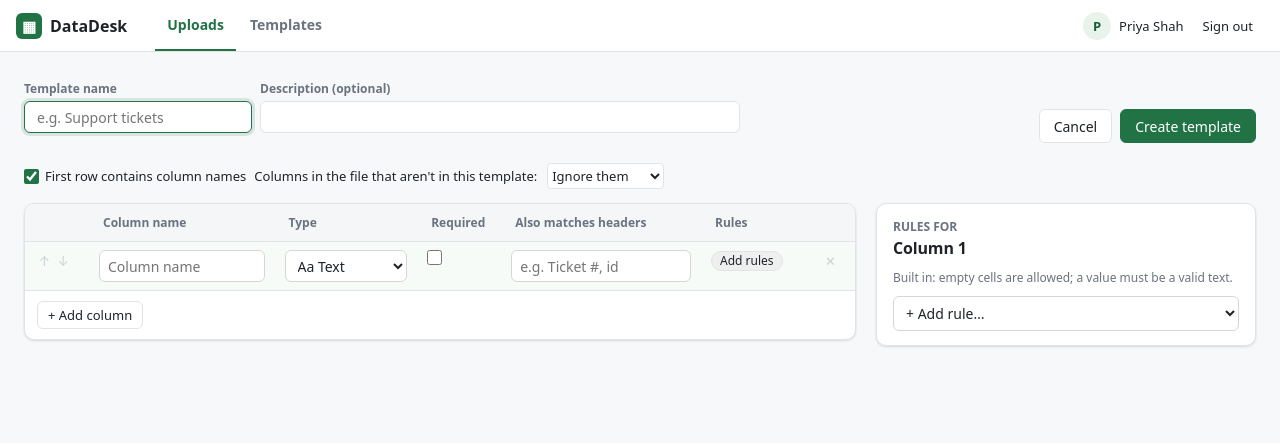
Test: TemplateEditorPage: new template › server-side problems (duplicate name) are shown at the field and cleared on the next edit
The width and height of the screenshot is (1280, 443).
Type "Support tickets" into the field labelled "Template name" at x=138, y=117, box [24,101,252,133]
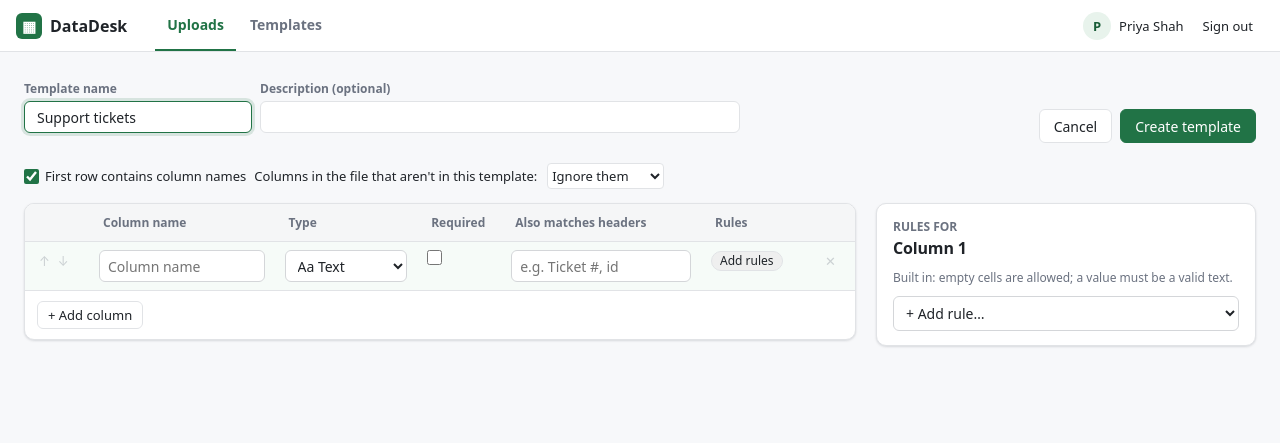
Type "A" into the field named "Column 1 name" at x=182, y=266, box [99,250,264,282]
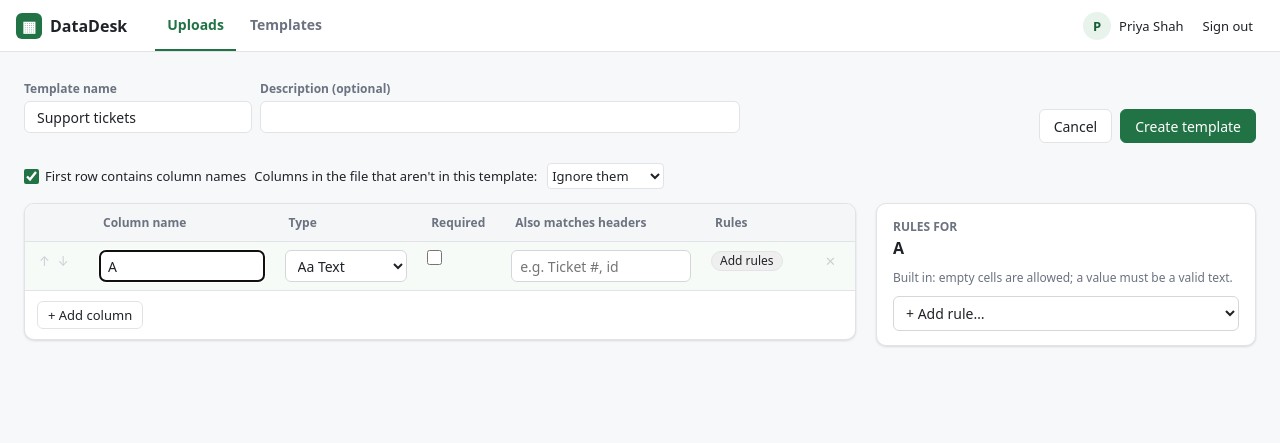
Click the button "Create template" at x=1188, y=126, box [1120,109,1256,143]
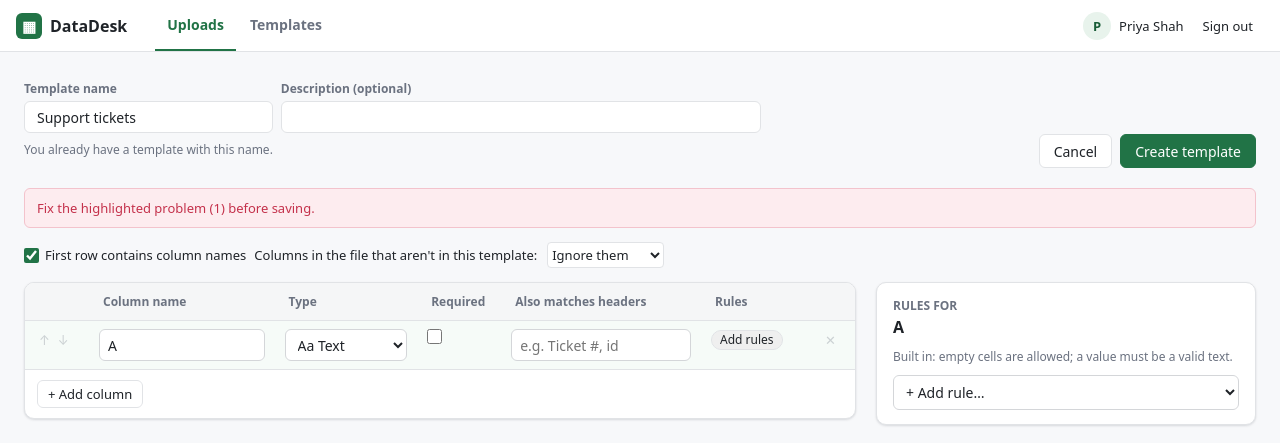
Expected: the text "You already have a template with this name." is shown, [24,141,273,158]
Type " 2" into the field labelled "Template name" at x=148, y=117, box [24,101,273,133]
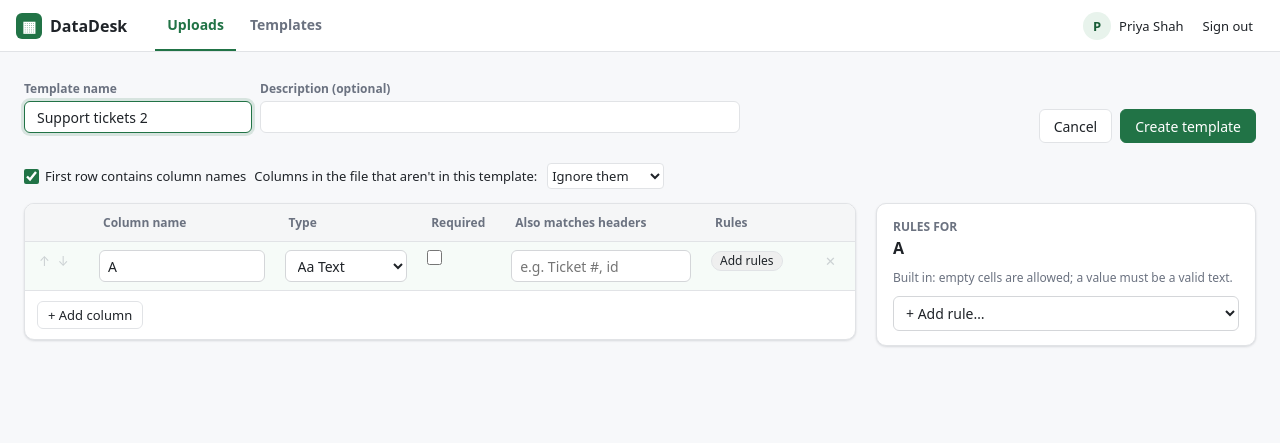
Expected: the text "You already have a template with this name." is gone
